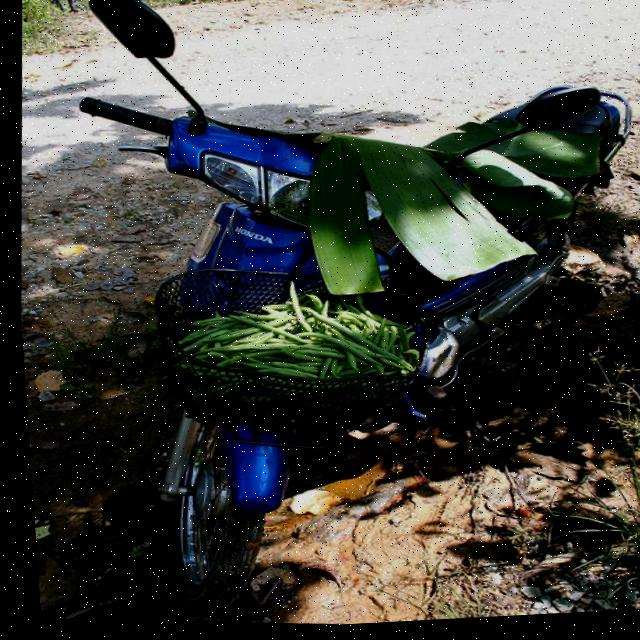motorcycle: (30, 0, 640, 638)
